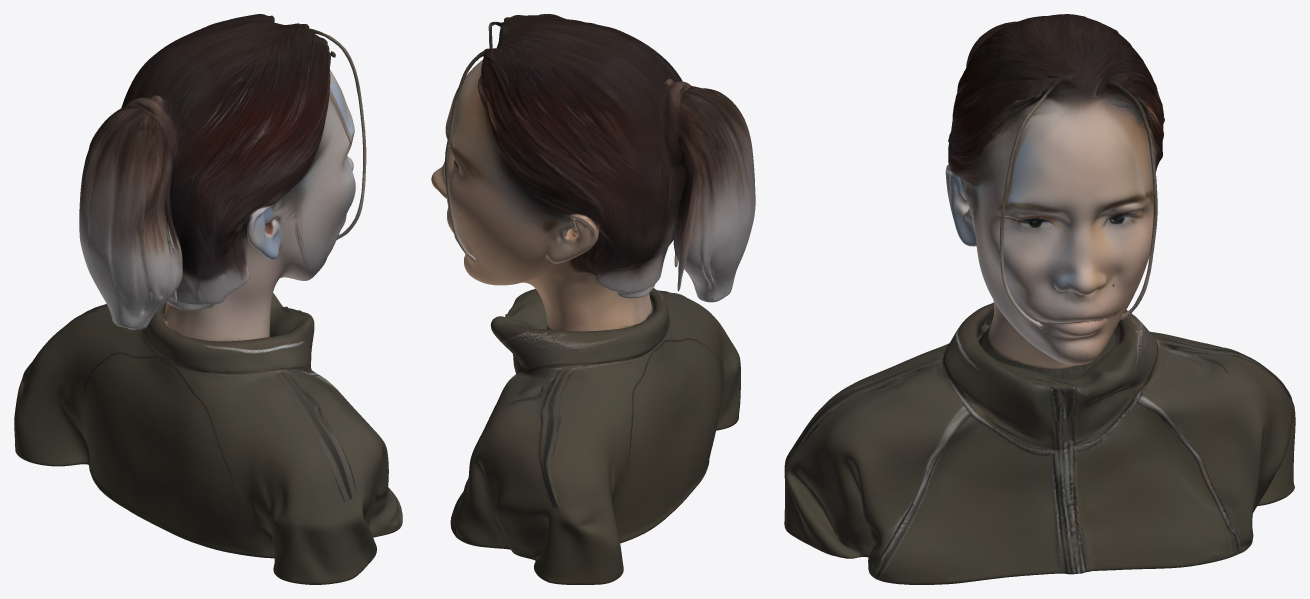
File: tripo_pbr_model_cf003b79-1a45-_cc61a944_opt.glb
3 views of the same model, side by side, from view 1: azimuth 30°, elevation 25°; view 2: azimuth 150°, elevation 25°; view 3: azimuth 270°, elevation 25° (orthographic). The views are drawn at different scales.
Visible parts, largest first — view 1: tripo_node_cf003b79-1a45-4198-923a-84eef503839c; view 2: tripo_node_cf003b79-1a45-4198-923a-84eef503839c; view 3: tripo_node_cf003b79-1a45-4198-923a-84eef503839c.
Part boxes in pixels (x1=…): tripo_node_cf003b79-1a45-4198-923a-84eef503839c: x1=14, y1=14, x2=402, y2=584; tripo_node_cf003b79-1a45-4198-923a-84eef503839c: x1=431, y1=14, x2=755, y2=584; tripo_node_cf003b79-1a45-4198-923a-84eef503839c: x1=784, y1=14, x2=1295, y2=584.
Size of the model in its own units: 0.6717 by 1 by 0.9187.
Materials: 1 (1 with a texture image).
